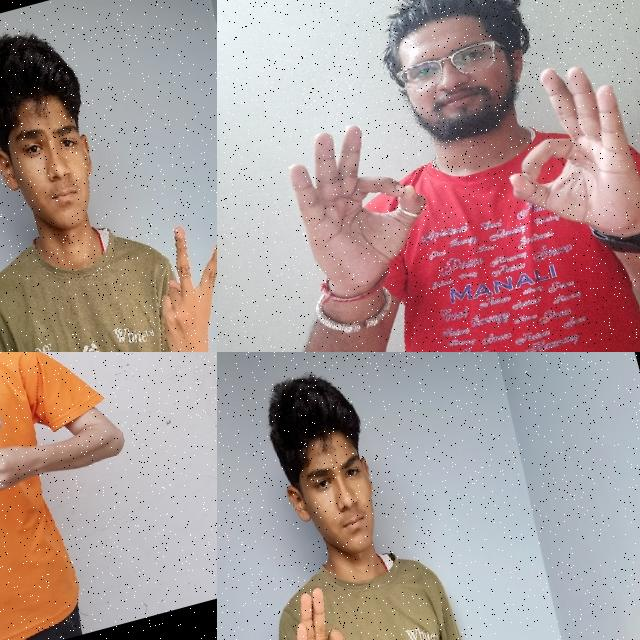Five Fathers: (0, 398, 77, 551)
Okay: (269, 99, 453, 314), (479, 46, 640, 266), (260, 572, 394, 640)
Reversed Victory: (131, 206, 217, 352)
